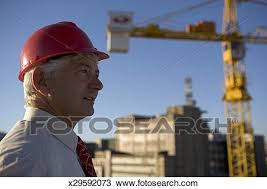Person_wearing_helmet: (12, 19, 111, 84)
